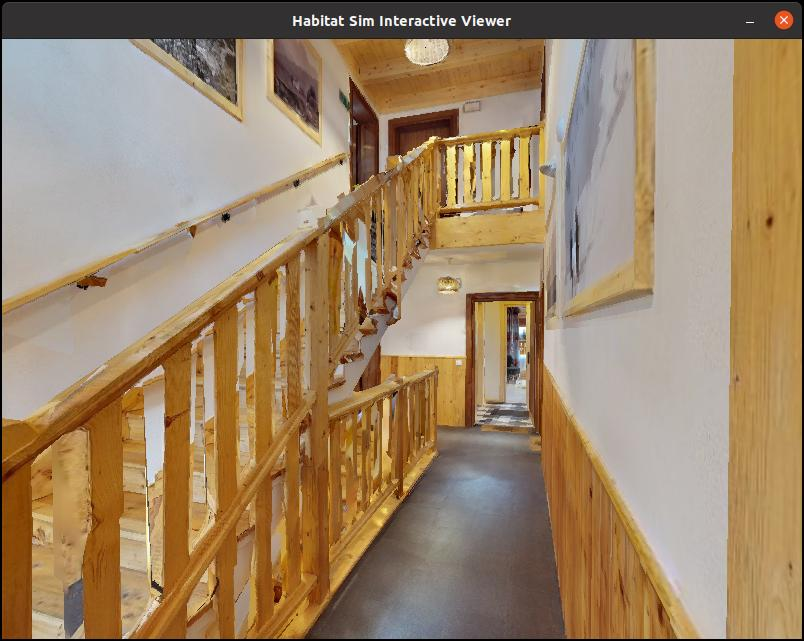door-frame: (463, 295, 550, 425)
stairs: (0, 135, 433, 641)
